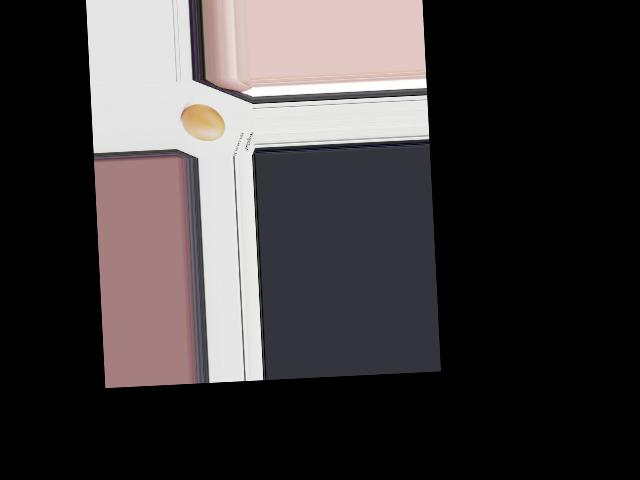egg: (180, 102, 225, 141)
